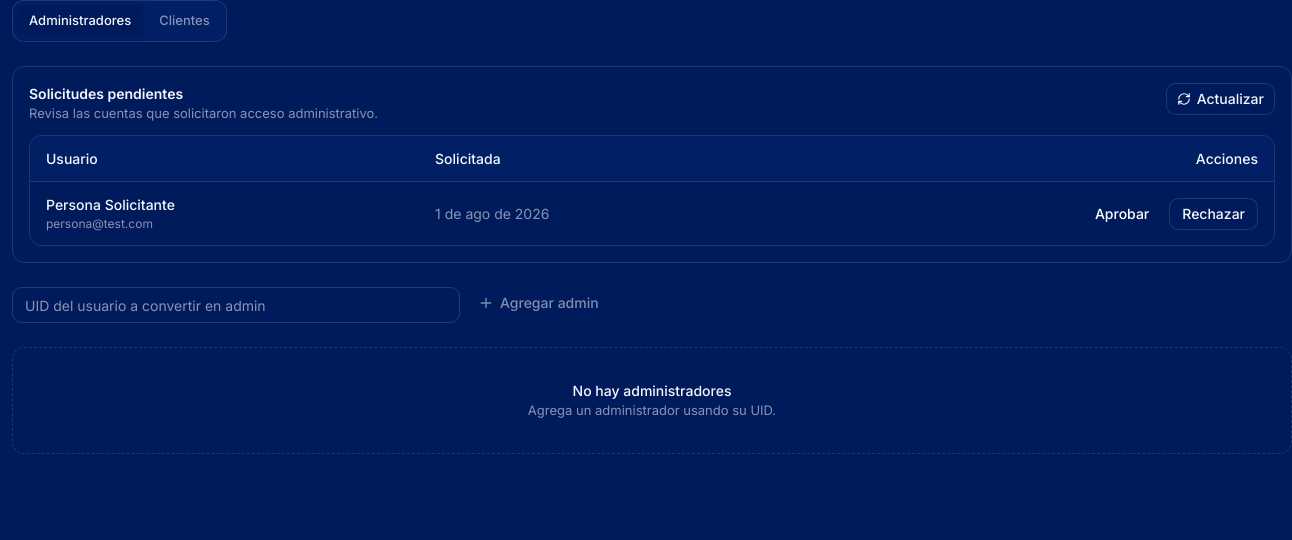
Scenario: AdminUsuarios - solicitudes pendientes › rechaza una solicitud con PATCH y la accion reject
Click the button "Rechazar": click(1214, 214) [1169,198,1258,230]
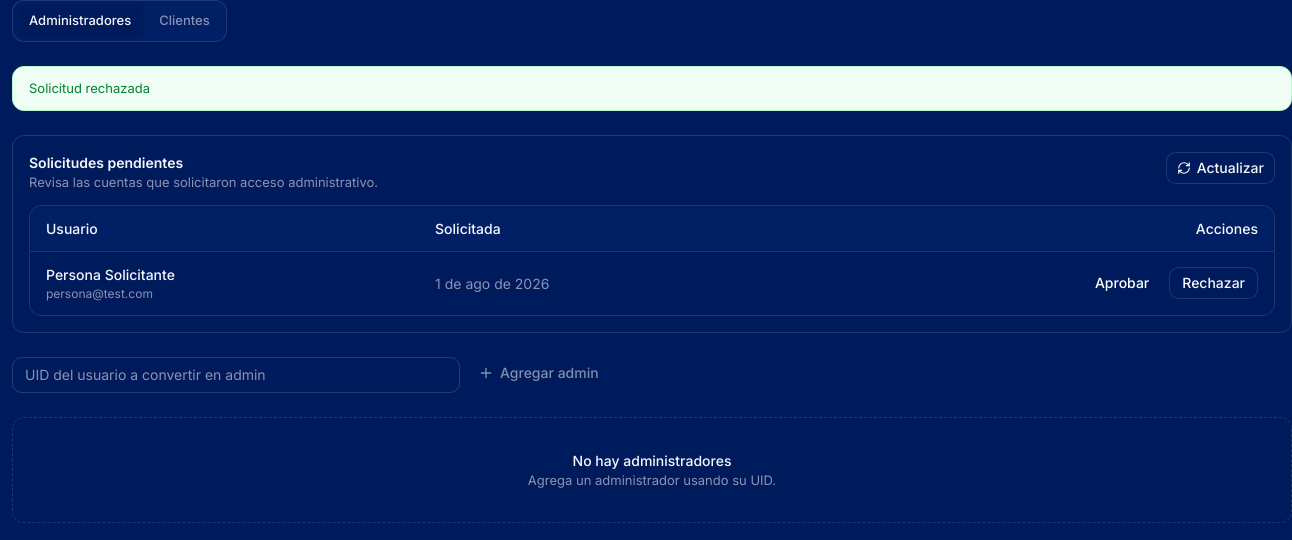
expect the text "Solicitud rechazada" is shown: met, box [12,66,1291,111]
